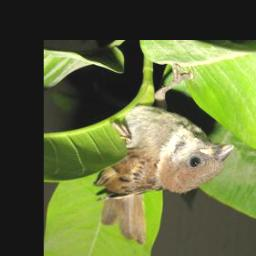Sparrow: (91, 62, 238, 246)
